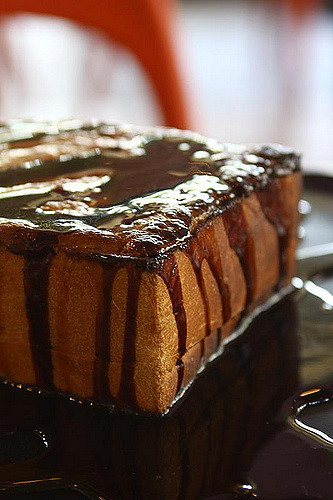slice of bread: (21, 206, 194, 377)
